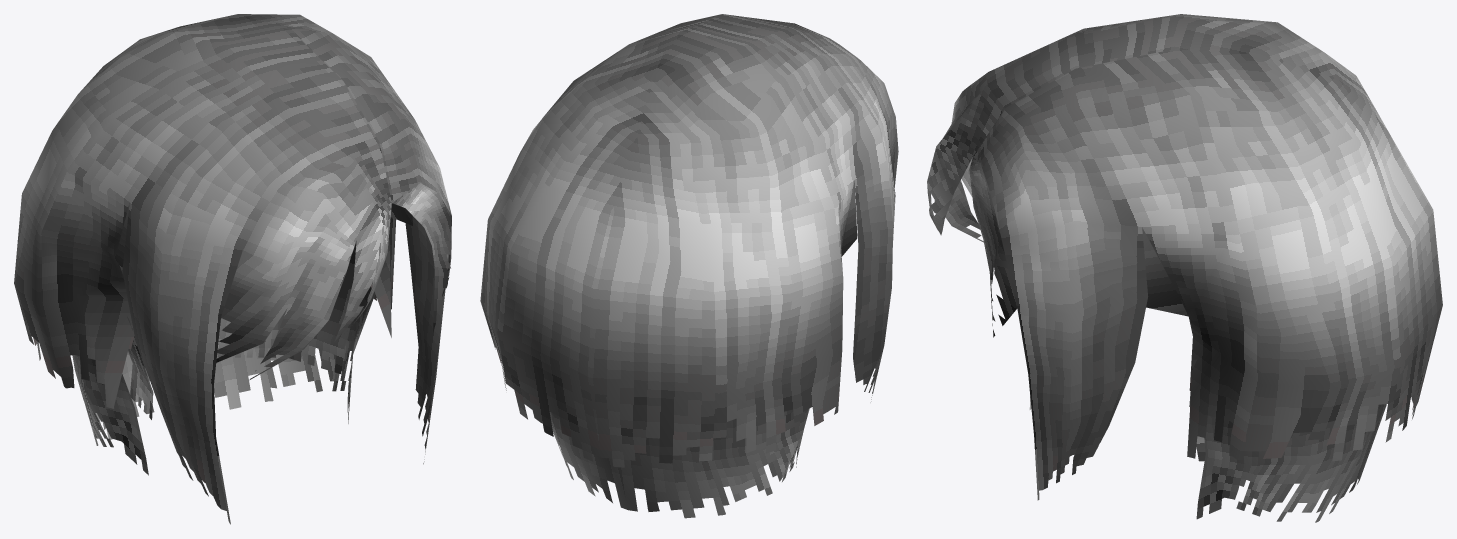
Rendered from f_head010.glb.
3 renders of one model, left to right at view 1: azimuth 30°, elevation 25°; view 2: azimuth 150°, elevation 25°; view 3: azimuth 270°, elevation 25°, orthographic. The views are drawn at different scales.
Bounding box in the file's own units: 22.23 × 26.56 × 26.59.
Materials: 1 (1 with a texture image).
